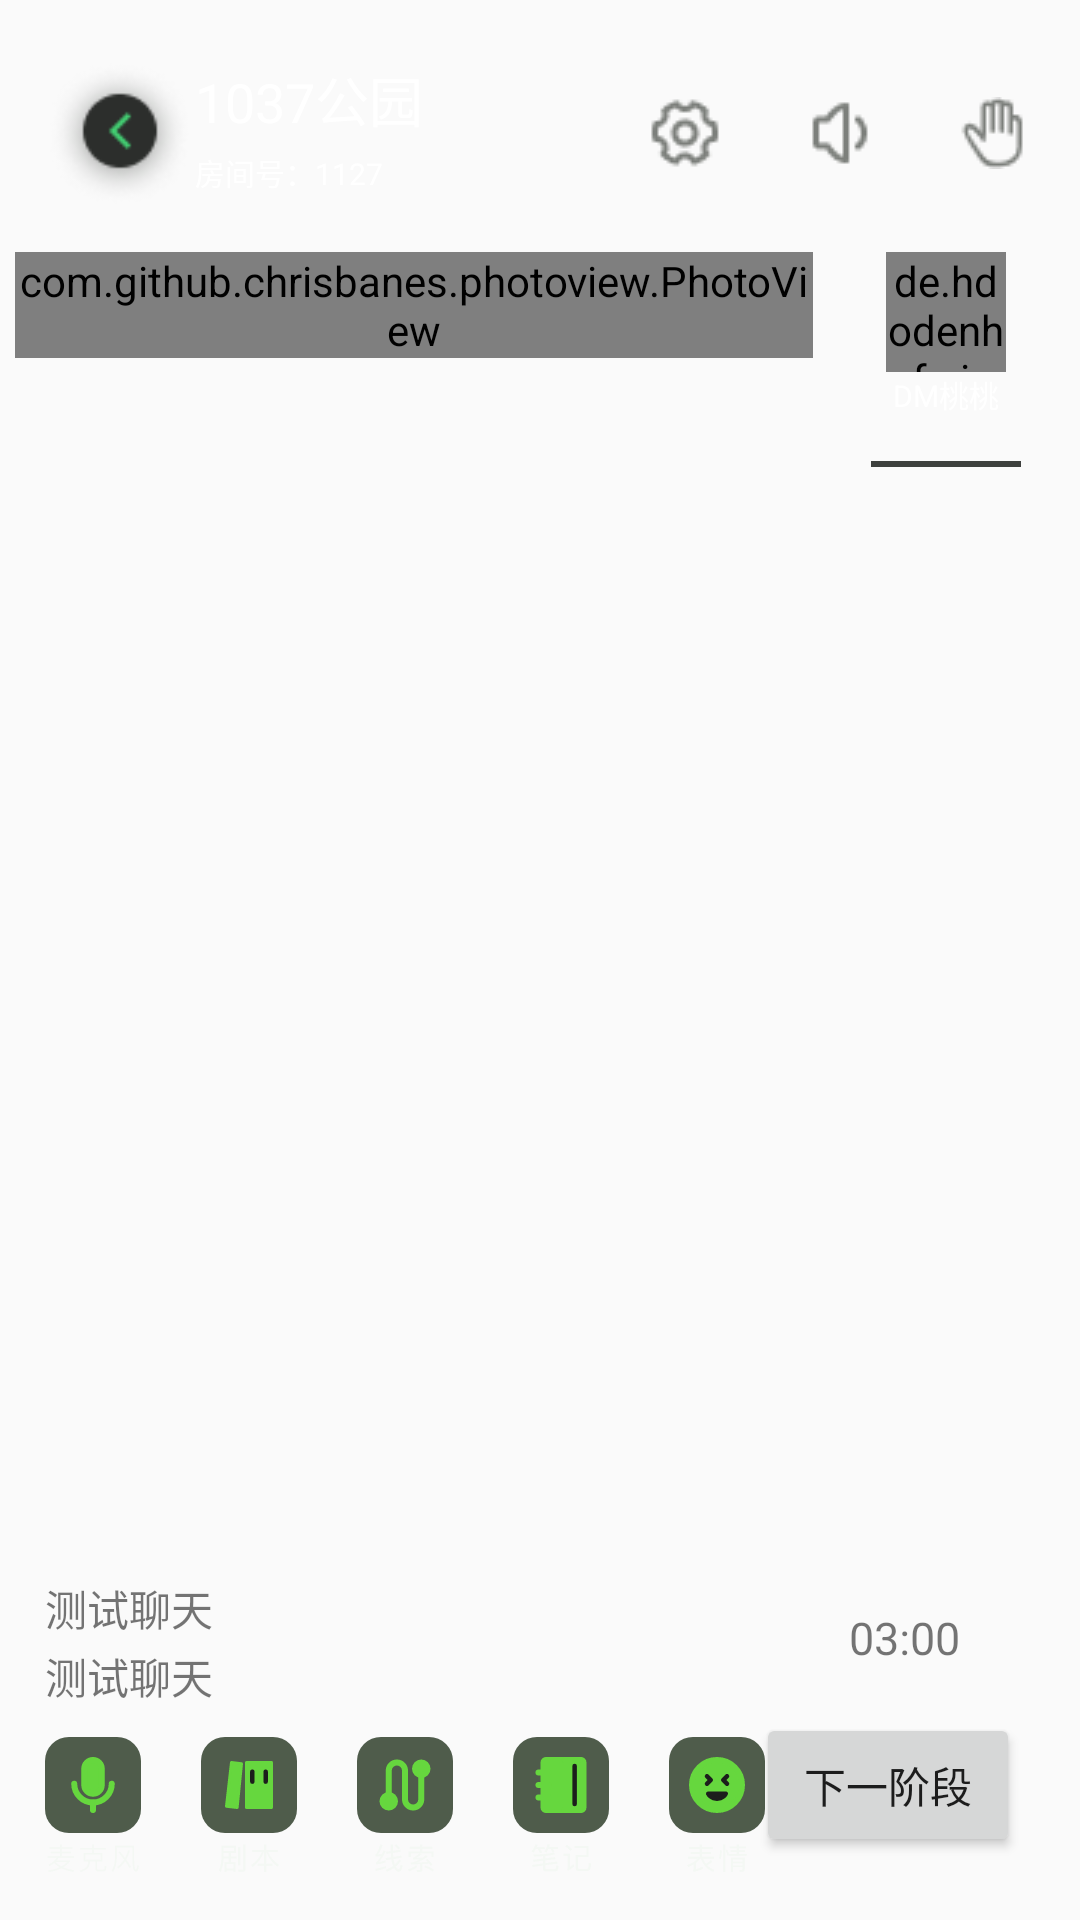

Where to tap for icons on this 1080 × 1920 app screen, as point (x, y):
back: point (120, 133)
handsup: point (992, 133)
settings: point (685, 132)
soundup: point (840, 133)
